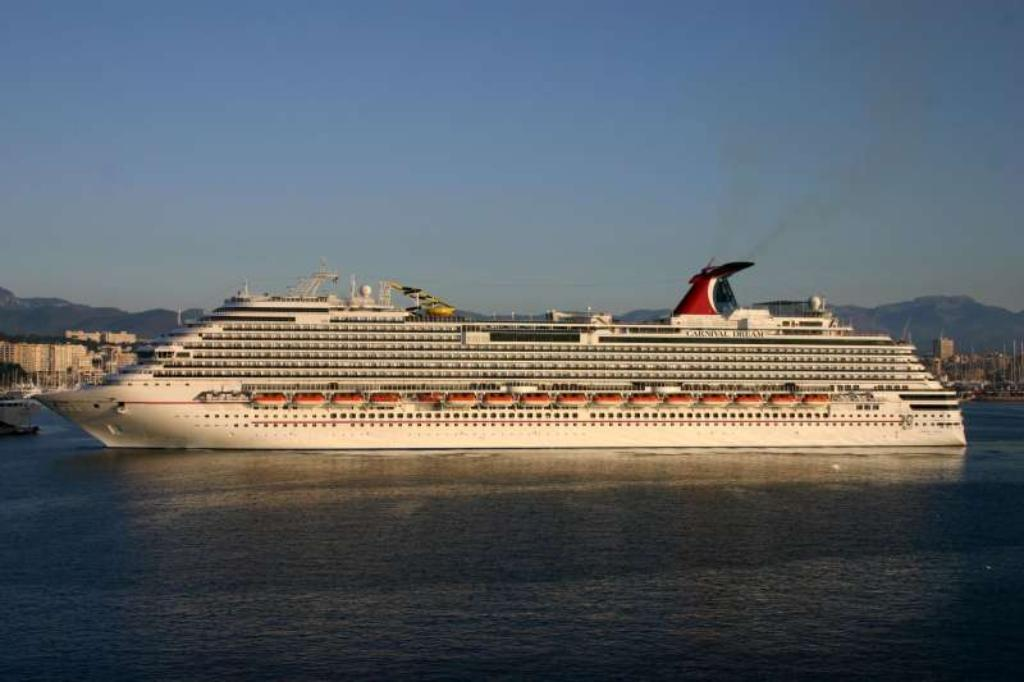PassengerShip: (41, 260, 969, 463)
